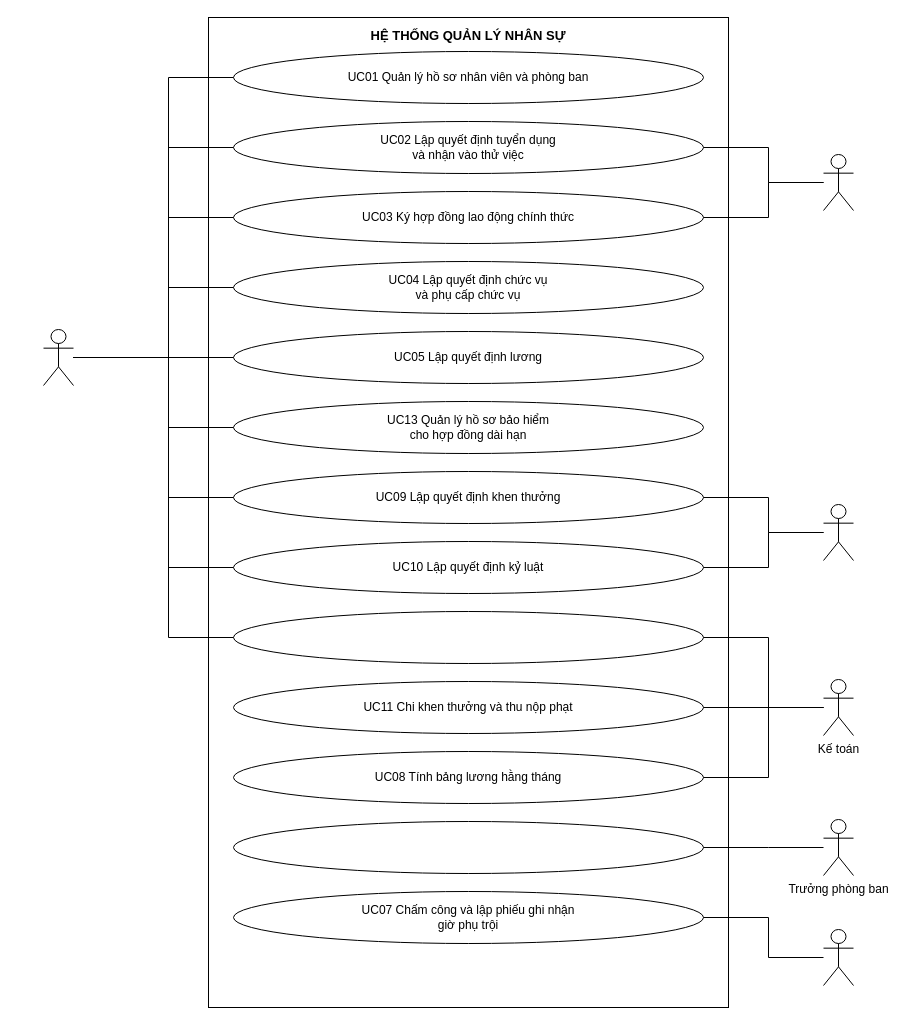
Image size: 906x1025. Some labels were removed from this diagram. The shapes that lost their labels are listed below. From the top down, each one's box as (x1, y1, x2, y2) in pixels, then its label:
(822, 154, 854, 210): Ứng viên / Nhân viên
(42, 328, 74, 386): Phòng nhân sự
(822, 504, 854, 560): Giám đốc
(232, 610, 704, 664): UC12 Tra cứu và thống kê nhân sự, lương, thưởng
(232, 820, 704, 874): UC06 Lập kế hoạch phân công ca làm việc
(822, 928, 854, 986): Ban chấm công
